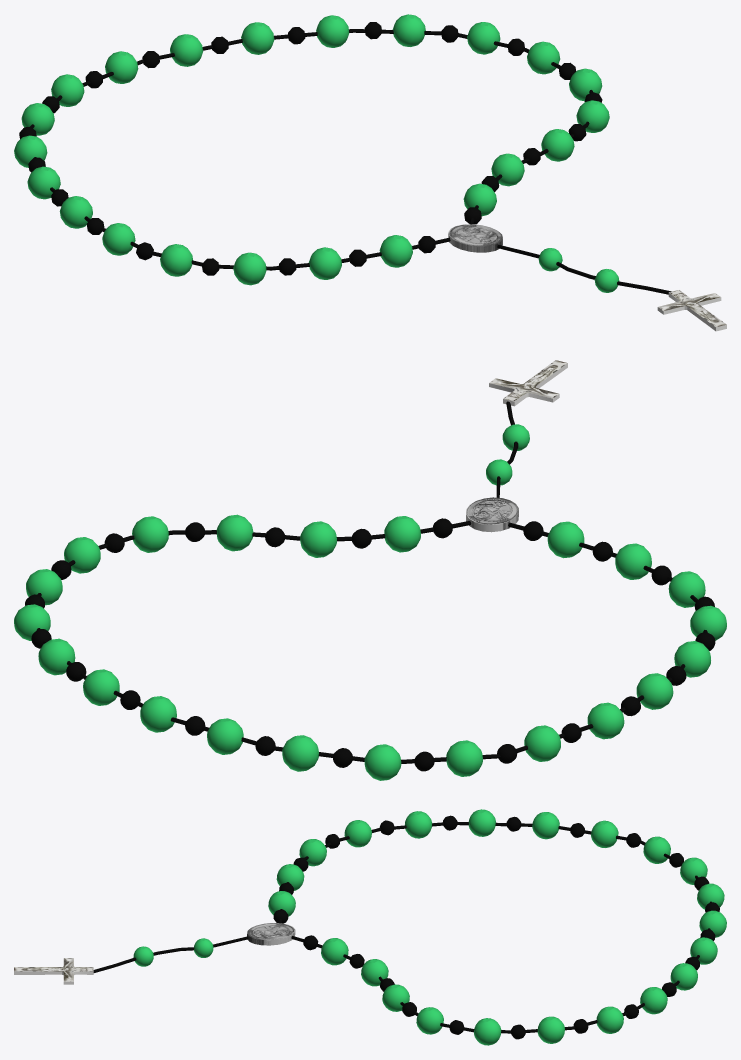
File: rosary.FBX
3 renders of one model, top to bottom at view 1: azimuth 30°, elevation 25°; view 2: azimuth 150°, elevation 25°; view 3: azimuth 270°, elevation 25°, orthographic. The views are drawn at different scales.
Visible parts, largest first — view 1: rosary; view 2: rosary; view 3: rosary.
Part boxes in pixels (bbox=[...]): rosary: bbox=[14, 14, 726, 331]; rosary: bbox=[14, 360, 726, 780]; rosary: bbox=[14, 809, 726, 1045].
Size of the model in its own units: 1.11 by 0.0576 by 1.52.
Materials: 4 (2 with a texture image).
